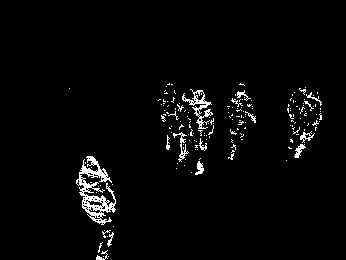person: (76, 154, 116, 260), (224, 80, 258, 161), (188, 87, 216, 177), (176, 87, 202, 166), (294, 90, 324, 157), (158, 80, 182, 155), (285, 82, 308, 151)
